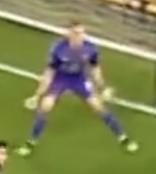goalkeeper: (13, 8, 155, 166)
